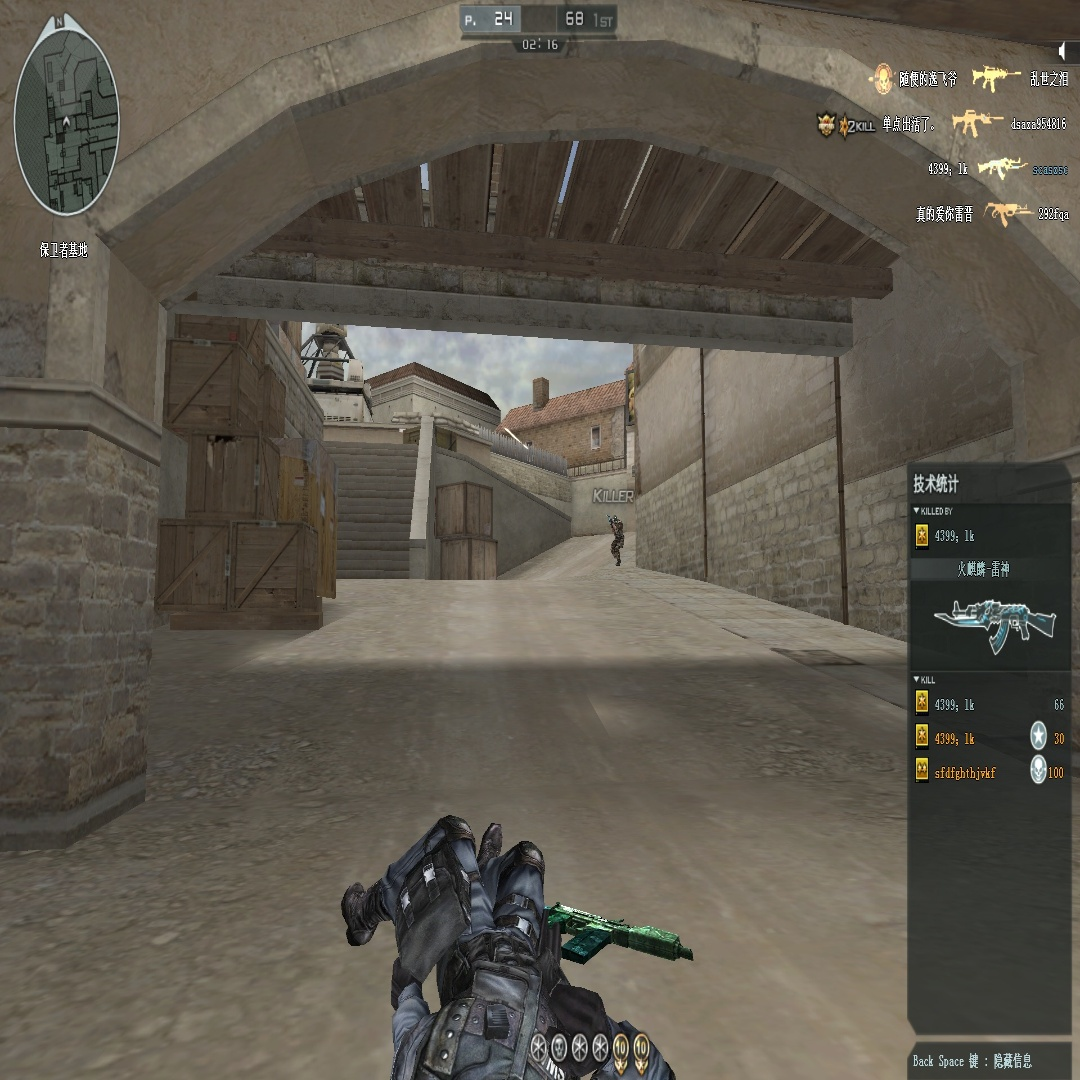p: (609, 513, 626, 566)
